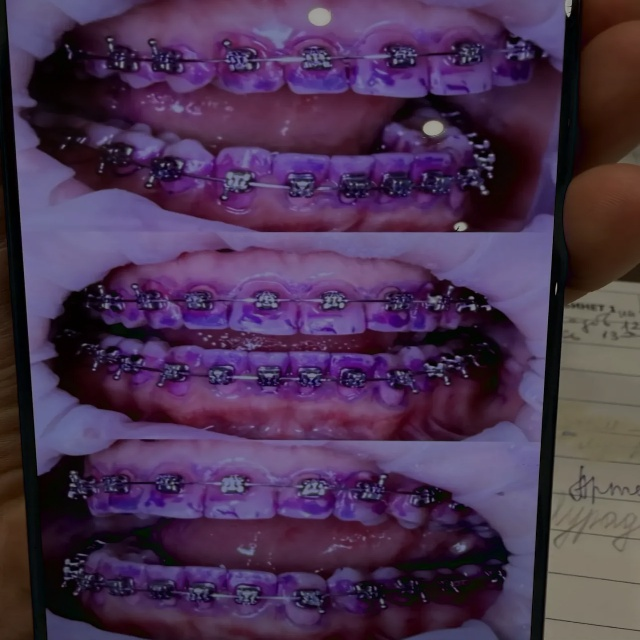clean_tooth: (590, 545, 639, 582)
plaque: (6, 0, 563, 639), (46, 614, 136, 639)
